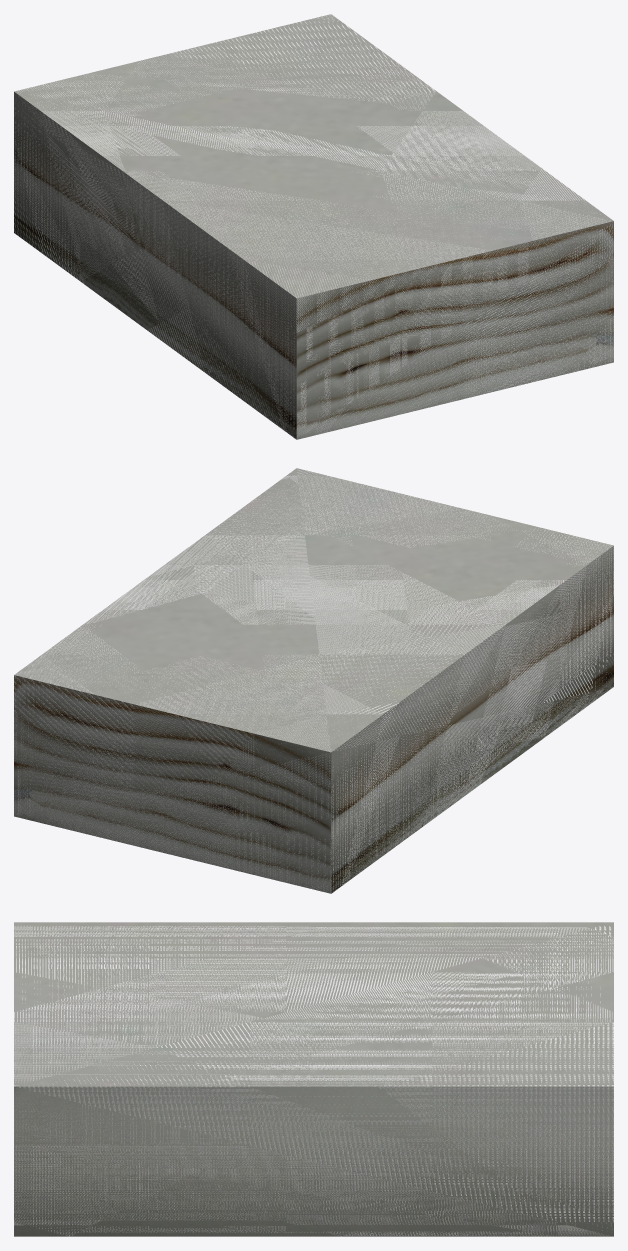
File: blanket_white.dae
The picture shows the model from 3 angles, top to bottom: view 1: azimuth 30°, elevation 25°; view 2: azimuth 150°, elevation 25°; view 3: azimuth 270°, elevation 25°; orthographic projection. The views are drawn at different scales.
Visible parts, largest first — view 1: SketchUp (×3); view 2: SketchUp (×3); view 3: SketchUp.
Boxes of the visible parts, bbox=[...] form: SketchUp (×3): bbox=[14, 14, 613, 439]; SketchUp (×3): bbox=[14, 468, 613, 893]; SketchUp: bbox=[14, 922, 613, 1236].
Bounding box in the file's own units: 0.2103 × 0.3245 × 0.0896.
Materials: 4 (3 with a texture image).
